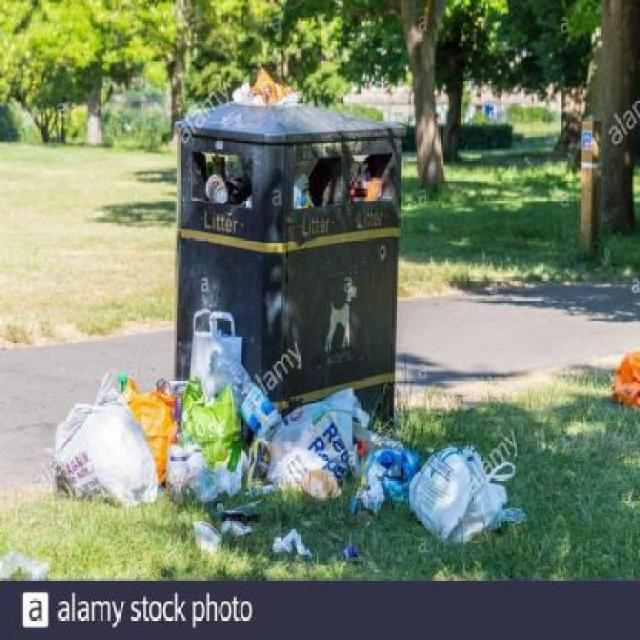garbage: (208, 413, 506, 546), (68, 325, 274, 495), (285, 171, 348, 205), (200, 171, 233, 207)
